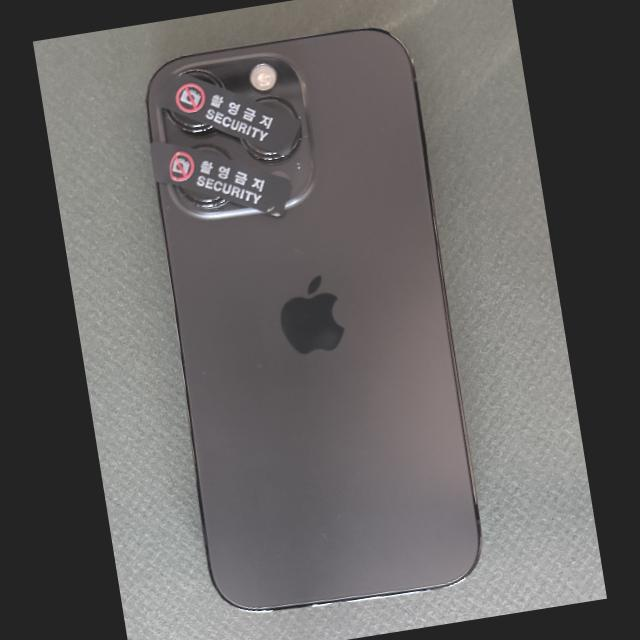lens: (259, 101, 294, 117), (185, 188, 218, 201), (174, 113, 204, 126)
phone: (147, 28, 484, 613)
sticker: (156, 75, 300, 156), (153, 142, 292, 216)
